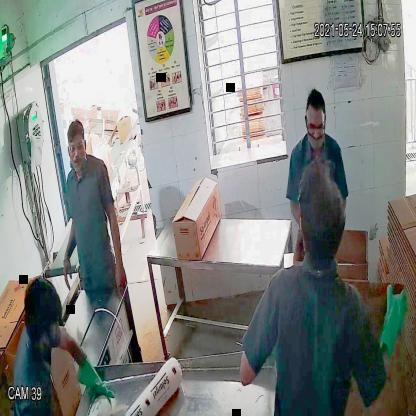goggles: (305, 113, 327, 137), (65, 139, 87, 155)
